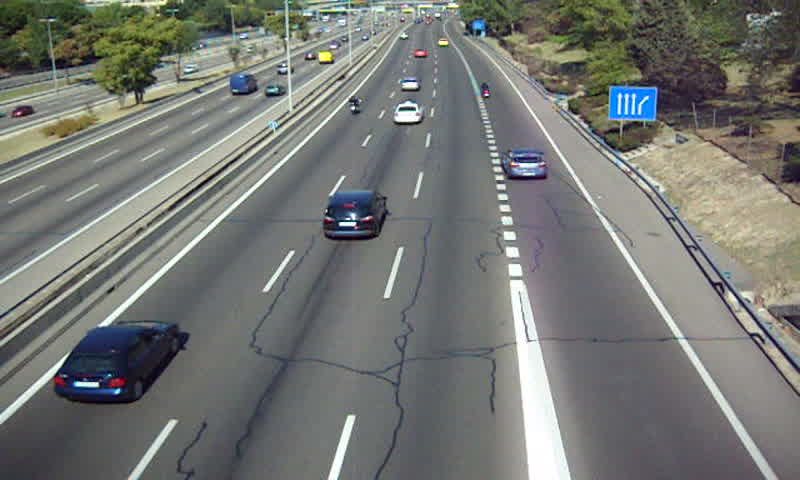car: (54, 322, 178, 403), (322, 190, 387, 238), (501, 148, 547, 181), (393, 101, 422, 123), (400, 76, 420, 91), (411, 48, 429, 59)
motorcycle: (348, 95, 363, 117), (479, 81, 491, 100)
